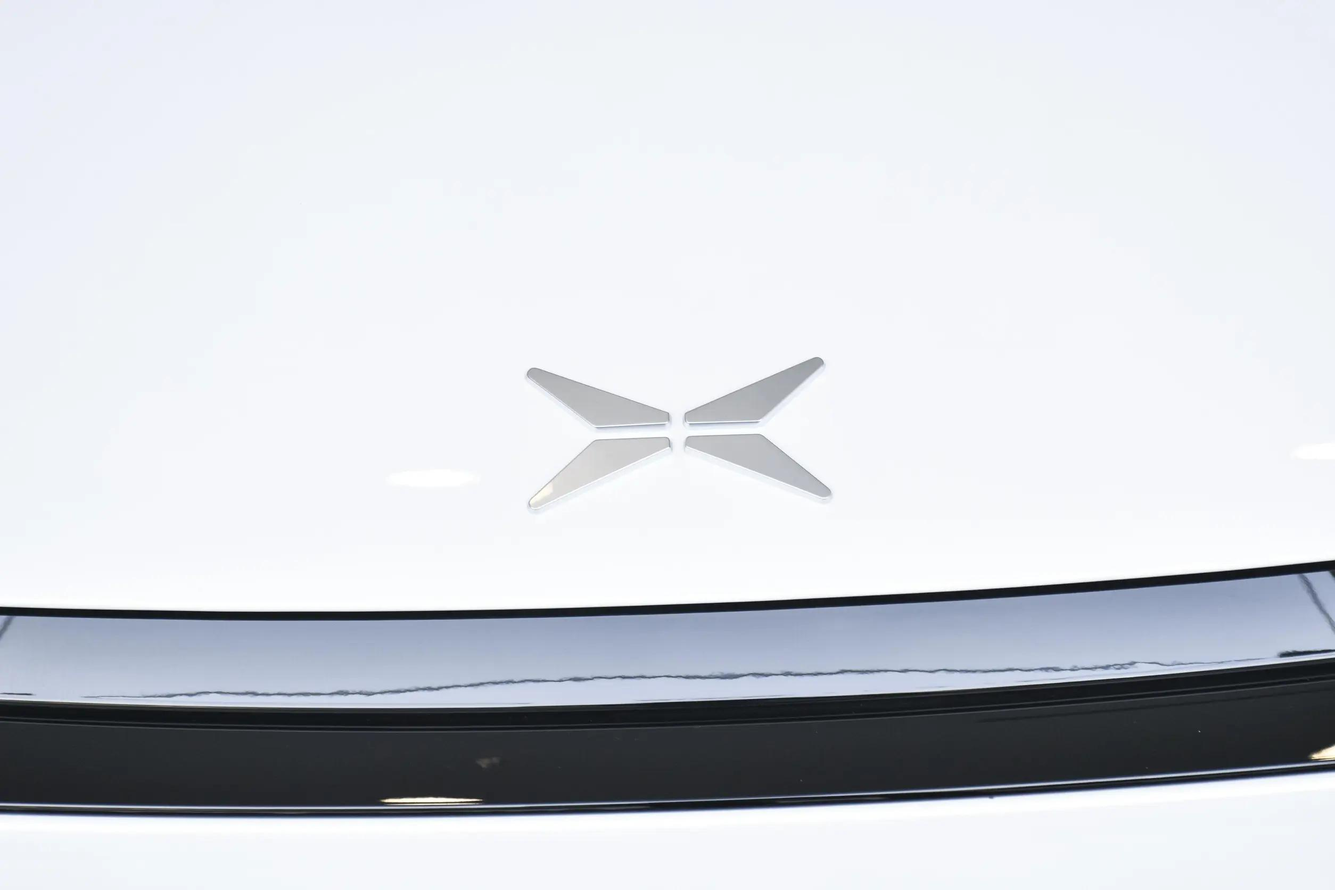XPeng Motors: (527, 357, 832, 509)
